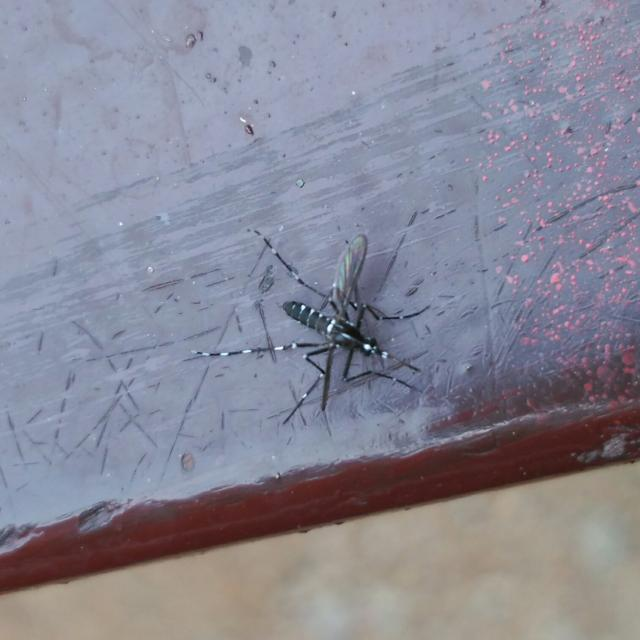albopictus: (179, 214, 429, 439)
